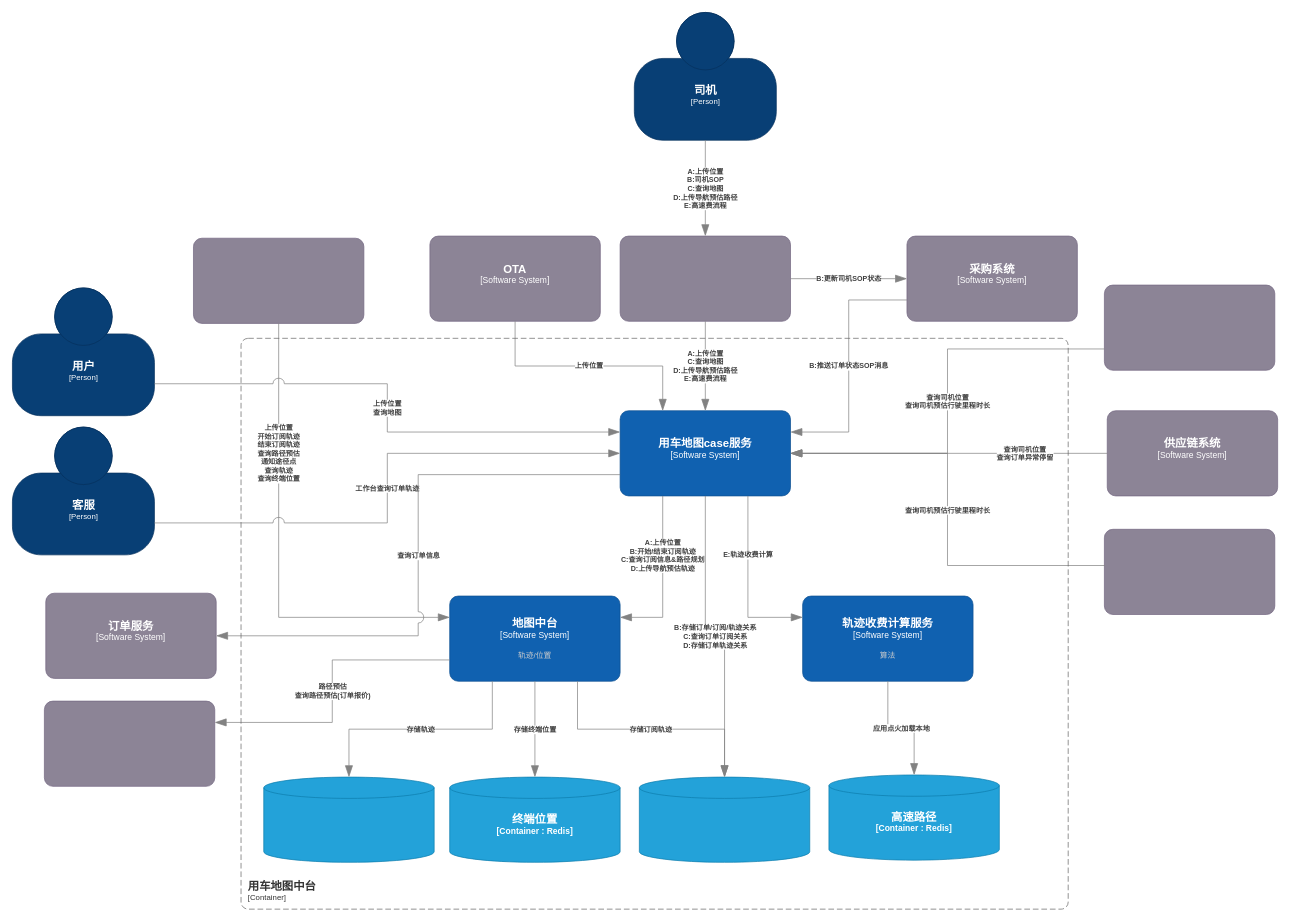
Image size: 1290x922. Some labels were removed from this diagram. Here are the shapes that lost their labels. From the top down, the centre of each, then its label:
At (x=278, y=280): "租车地图服务 [Software System]".
At (x=705, y=278): "司机端系统 [Software System]".
At (x=1189, y=327): "派发系统 [Software System]".
At (x=1189, y=572): "客服系统 [Software System]".
At (x=129, y=743): "GEO服务 [Software System]".
At (x=348, y=819): "轨迹 [Container : HBase]".
At (x=724, y=819): "订单订阅轨迹信息等 [Container : MySQL]".
